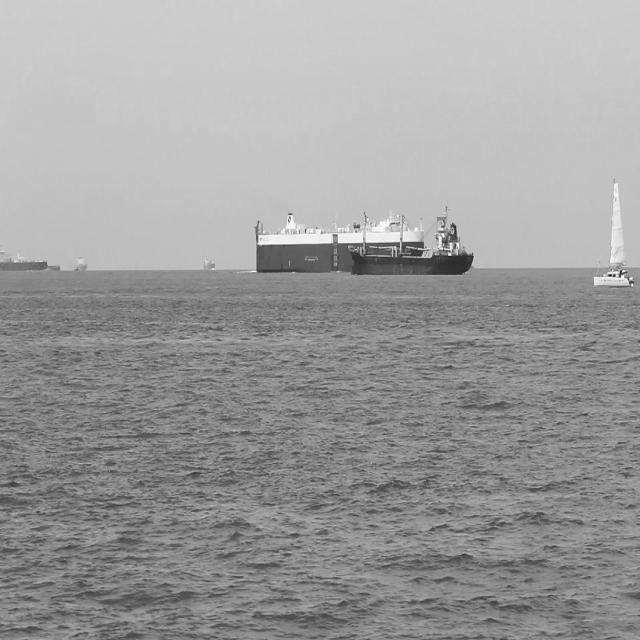ship: (252, 206, 428, 278), (343, 198, 478, 278), (592, 168, 636, 288), (0, 246, 50, 274), (70, 250, 88, 274), (202, 252, 217, 273)
